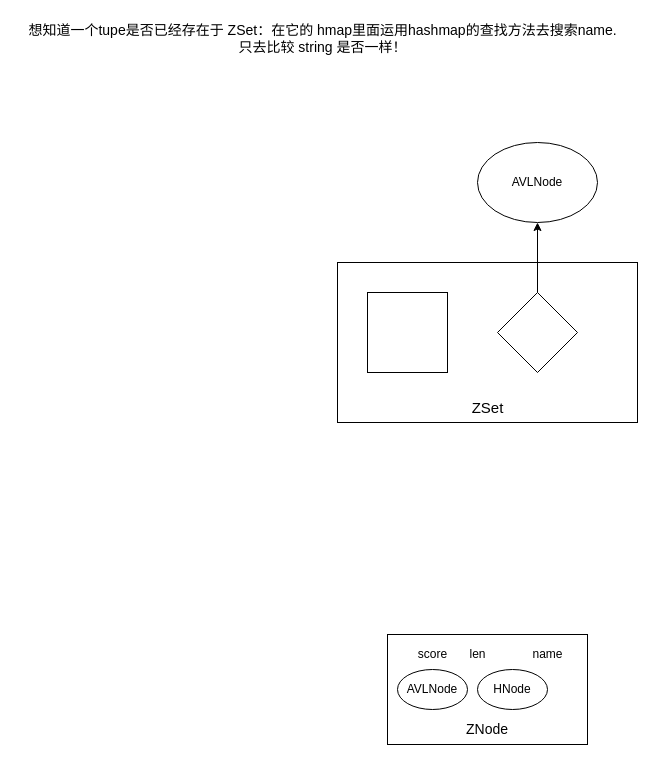
The diagram is 655 pixels wide and 762 high, and some of its shapes have lost their labels. The centre of each missing label's shape, as x and y in pixels:
hmap: pixel 407 332
tree: pixel 537 332
